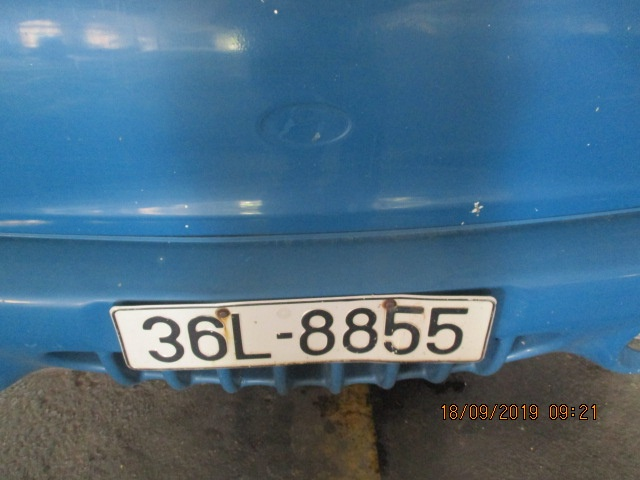number_plate: (129, 309, 468, 359)
